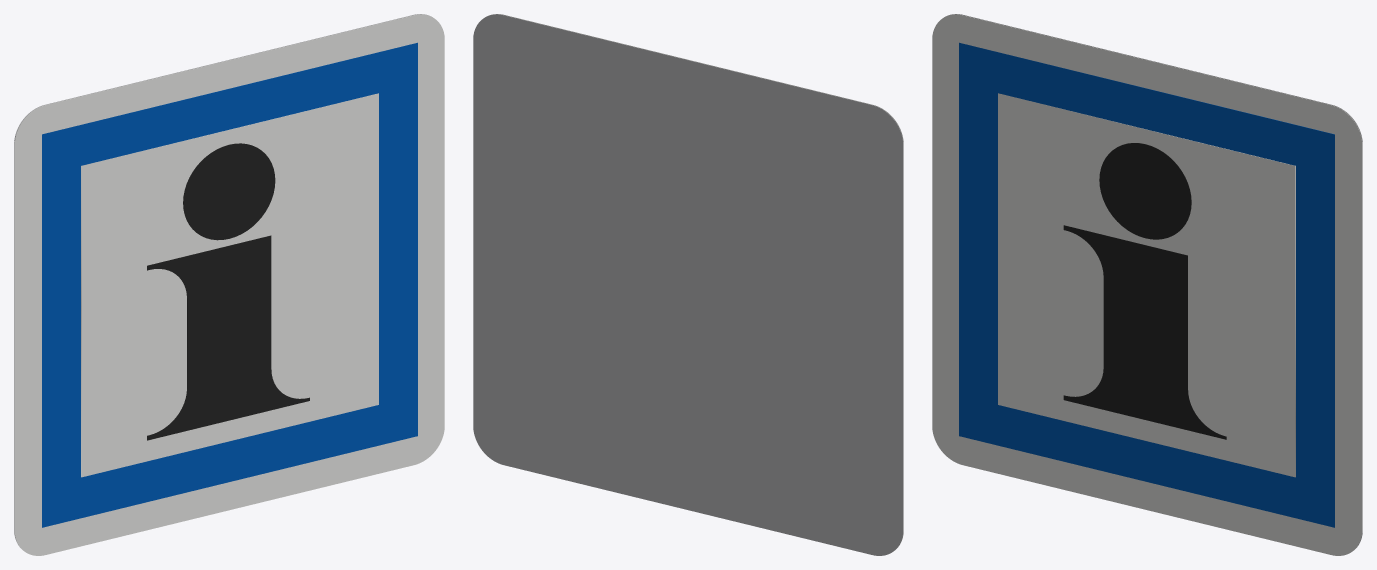
3 renders of one model, left to right at view 1: azimuth 30°, elevation 25°; view 2: azimuth 150°, elevation 25°; view 3: azimuth 330°, elevation 25°, orthographic.
Parts seen in each view (by area): view 1: CE3a_p02, CE3a_p01, CE3a_p00, CE3a_p03, CE3a_p04, CE3a_dos; view 2: CE3a_dos, CE3a_p00; view 3: CE3a_p02, CE3a_p01, CE3a_p00, CE3a_p03, CE3a_p04, CE3a_dos.
Part boxes in pixels (<box>): CE3a_p02: <box>81,93,378,477</box>; CE3a_p01: <box>42,42,417,527</box>; CE3a_p00: <box>14,14,444,555</box>; CE3a_p03: <box>147,235,309,440</box>; CE3a_p04: <box>183,143,275,240</box>; CE3a_dos: <box>14,14,431,547</box>; CE3a_dos: <box>473,14,903,555</box>; CE3a_p00: <box>486,14,903,547</box>; CE3a_p02: <box>998,93,1295,477</box>; CE3a_p01: <box>959,42,1334,527</box>; CE3a_p00: <box>932,14,1362,555</box>; CE3a_p03: <box>1063,225,1226,439</box>; CE3a_p04: <box>1099,143,1191,239</box>; CE3a_dos: <box>945,14,1362,547</box>.
Bounding box in the file's own units: 0.7 × 0.6999 × 0.0035.
